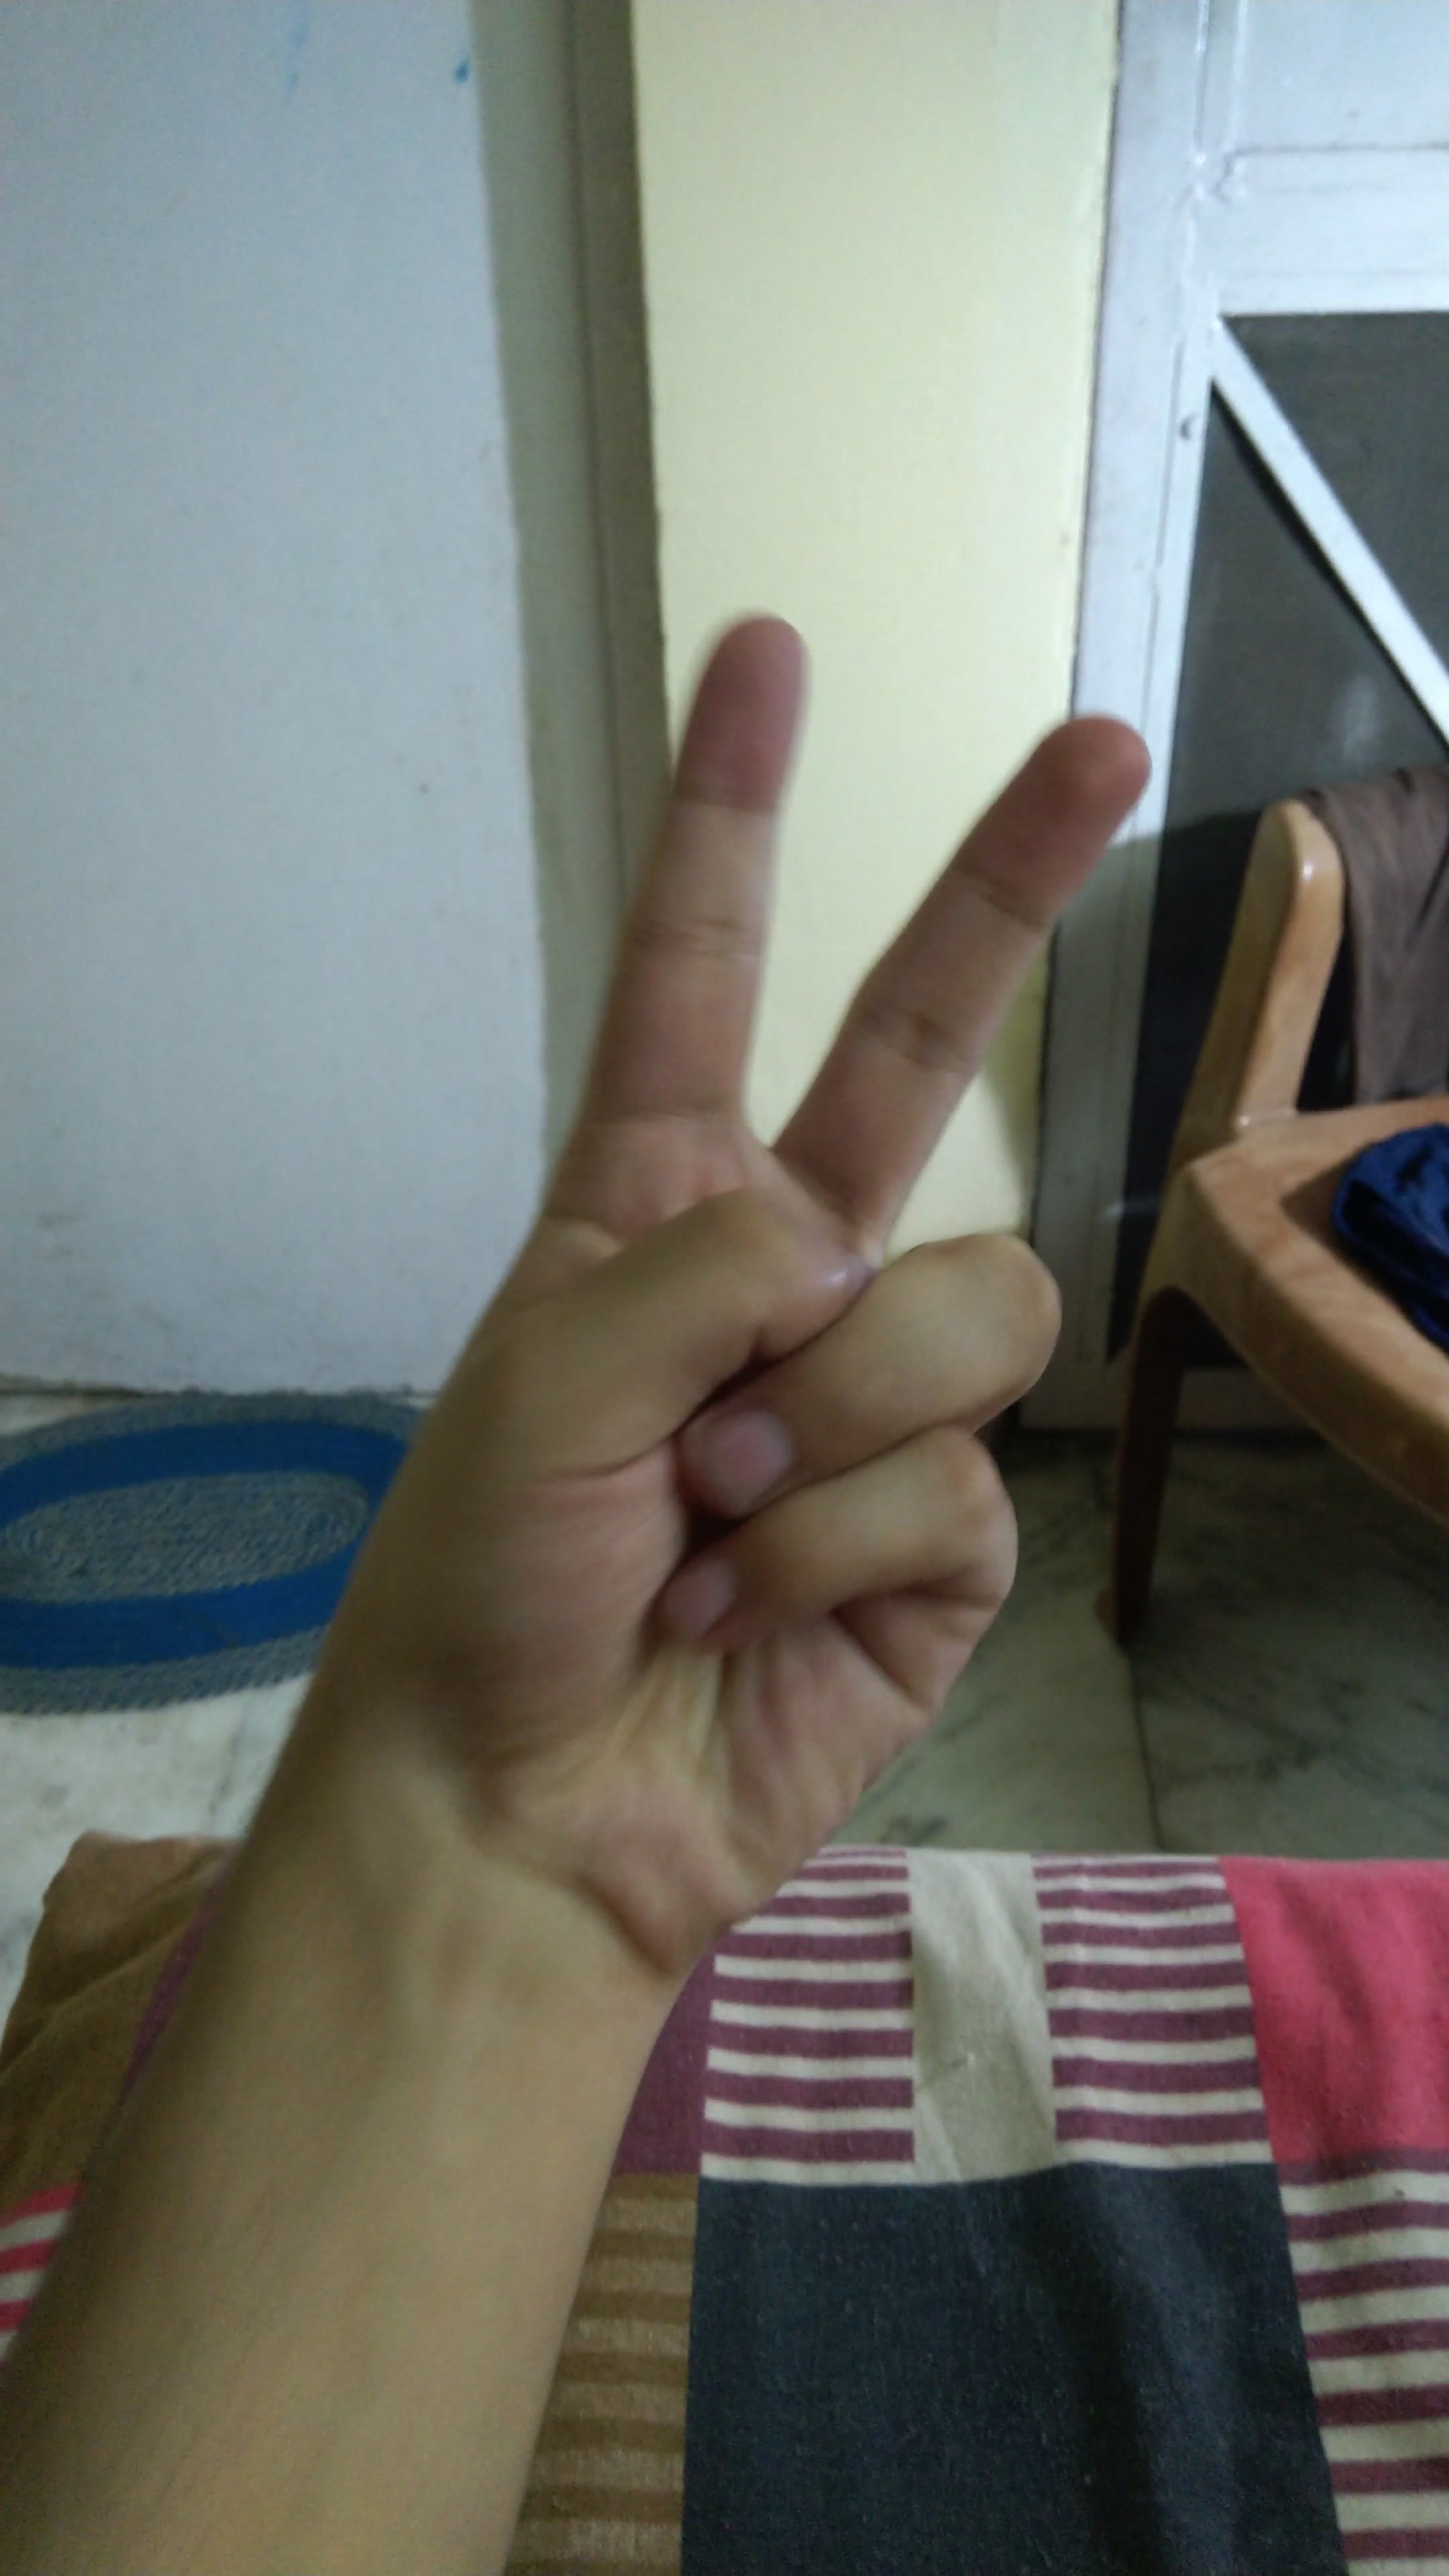hand: (241, 580, 1231, 2040)
